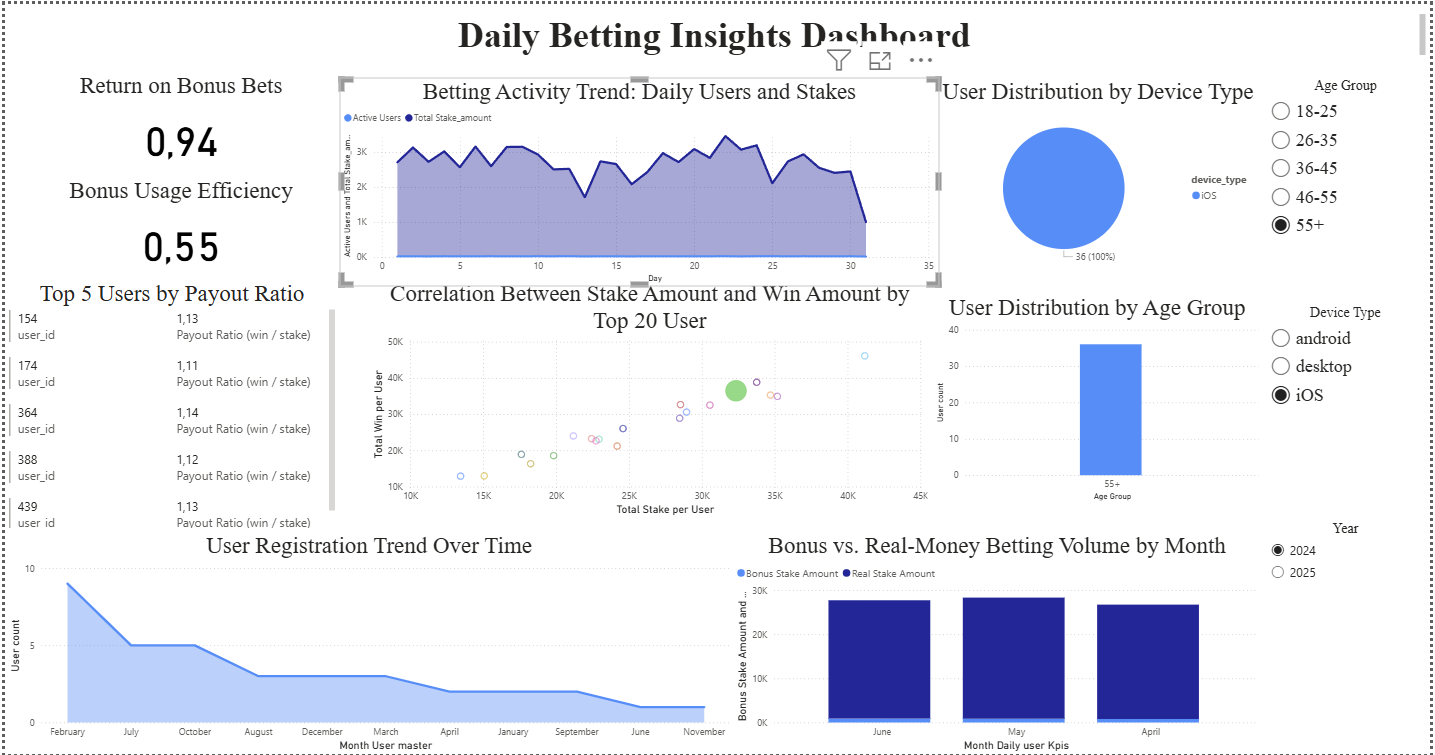

This screenshot's page, from the dashboard's own definition file:
{"tool":"powerbi","page":{"name":"Daily Betting Insights Dashboard","canvas":[1900,1000],"ordinal":0},"visuals":[{"type":"clusteredColumnChart","title":"User Distribution by Age Group","fields":{"Category":["user_master.Age Group"],"Y":["Measure Table.User count"]},"box":[1236.2,386.6,440.5,281],"z":0},{"type":"pieChart","title":"\tUser Distribution by Device Type","fields":{"Category":["user_master.device_type"],"Y":["Measure Table.User count"]},"box":[1236.2,98.9,442.8,260.7],"z":1},{"type":"areaChart","title":"User Registration Trend Over Time","fields":{"Category":["user_master.Month User master"],"Y":["Measure Table.User count"]},"box":[0,703.5,971,296.7],"z":2},{"type":"stackedAreaChart","title":"Betting Activity Trend: Daily Users and Stakes","fields":{"Category":["daily_user_kpis.date.Variation.Date Hierarchy.Day"],"Y":["Measure Table.Active Users","Measure Table.Total Stake_amount"]},"box":[437,109.2,799.2,277.9],"z":3},{"type":"scatterChart","title":"Correlation Between Stake Amount and Win Amount by Top 20 User","fields":{"X":["Measure Table.Total Stake per User"],"Y":["Measure Table.Total Win per User"],"Series":["daily_user_kpis.user_id"],"Size":["Measure Table.Total Tickets"]},"box":[484.9,368,751.3,318.2],"z":4},{"type":"columnChart","title":"Bonus vs. Real-Money Betting Volume by Month","fields":{"Y":["Measure Table.Bonus Stake Amount","Measure Table.Real Stake Amount"],"Category":["daily_user_kpis.Month Daily user Kpis"]},"box":[971,703.5,705.8,296.7],"z":5},{"type":"multiRowCard","title":"Top 5 Users by Payout Ratio","fields":{"Values":["daily_user_kpis.user_id","Measure Table.Payout Ratio (win / stake)"]},"box":[0,368.6,445,334.9],"z":6},{"type":"card","title":"Return on Bonus Bets","fields":{"Values":["Measure Table.Bonus ROI"]},"box":[0,89.9,469.8,139.4],"z":7},{"type":"card","title":"Bonus Usage Efficiency","fields":{"Values":["Measure Table.Bonus Usage Rate"]},"box":[0,229.3,469.8,139.4],"z":8},{"type":"textbox","box":[0,9,1899.3,80.9],"z":9},{"type":"slicer","title":"Age Group","fields":{"Values":["user_master.Age Group"]},"box":[1676.7,98.9,222.5,222.5],"z":10},{"type":"slicer","title":"Device Type","fields":{"Values":["user_master.device_type"]},"box":[1676.7,400.1,222.5,254],"z":11},{"type":"slicer","title":"Year","fields":{"Values":["user_master.Year User master"]},"box":[1676.7,687.8,222.5,296.7],"z":12}]}

Visuals, with their boxes in screenshot pixels (x1, y1, x2, y2), scaled from the page's 1900x1000 canvas onto the 1435x755 screenshot:
"User Distribution by Age Group" clusteredColumnChart: bbox(934, 292, 1266, 504)
"	User Distribution by Device Type" pieChart: bbox(934, 75, 1268, 271)
"User Registration Trend Over Time" areaChart: bbox(0, 531, 733, 754)
"Betting Activity Trend: Daily Users and Stakes" stackedAreaChart: bbox(330, 82, 934, 292)
"Correlation Between Stake Amount and Win Amount by Top 20 User" scatterChart: bbox(366, 278, 934, 518)
"Bonus vs. Real-Money Betting Volume by Month" columnChart: bbox(733, 531, 1266, 754)
"Top 5 Users by Payout Ratio" multiRowCard: bbox(0, 278, 336, 531)
"Return on Bonus Bets" card: bbox(0, 68, 355, 173)
"Bonus Usage Efficiency" card: bbox(0, 173, 355, 278)
textbox: bbox(0, 7, 1434, 68)
"Age Group" slicer: bbox(1266, 75, 1434, 243)
"Device Type" slicer: bbox(1266, 302, 1434, 494)
"Year" slicer: bbox(1266, 519, 1434, 743)
